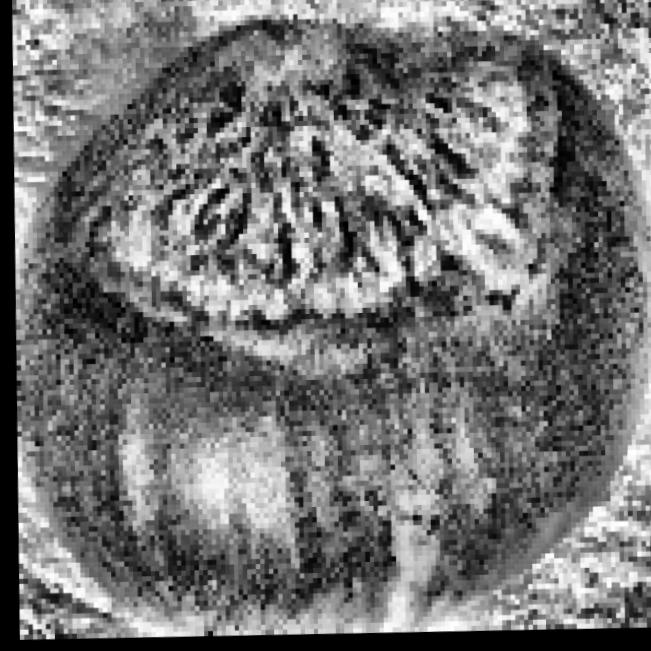qualityHazelnut: (0, 0, 651, 651)
